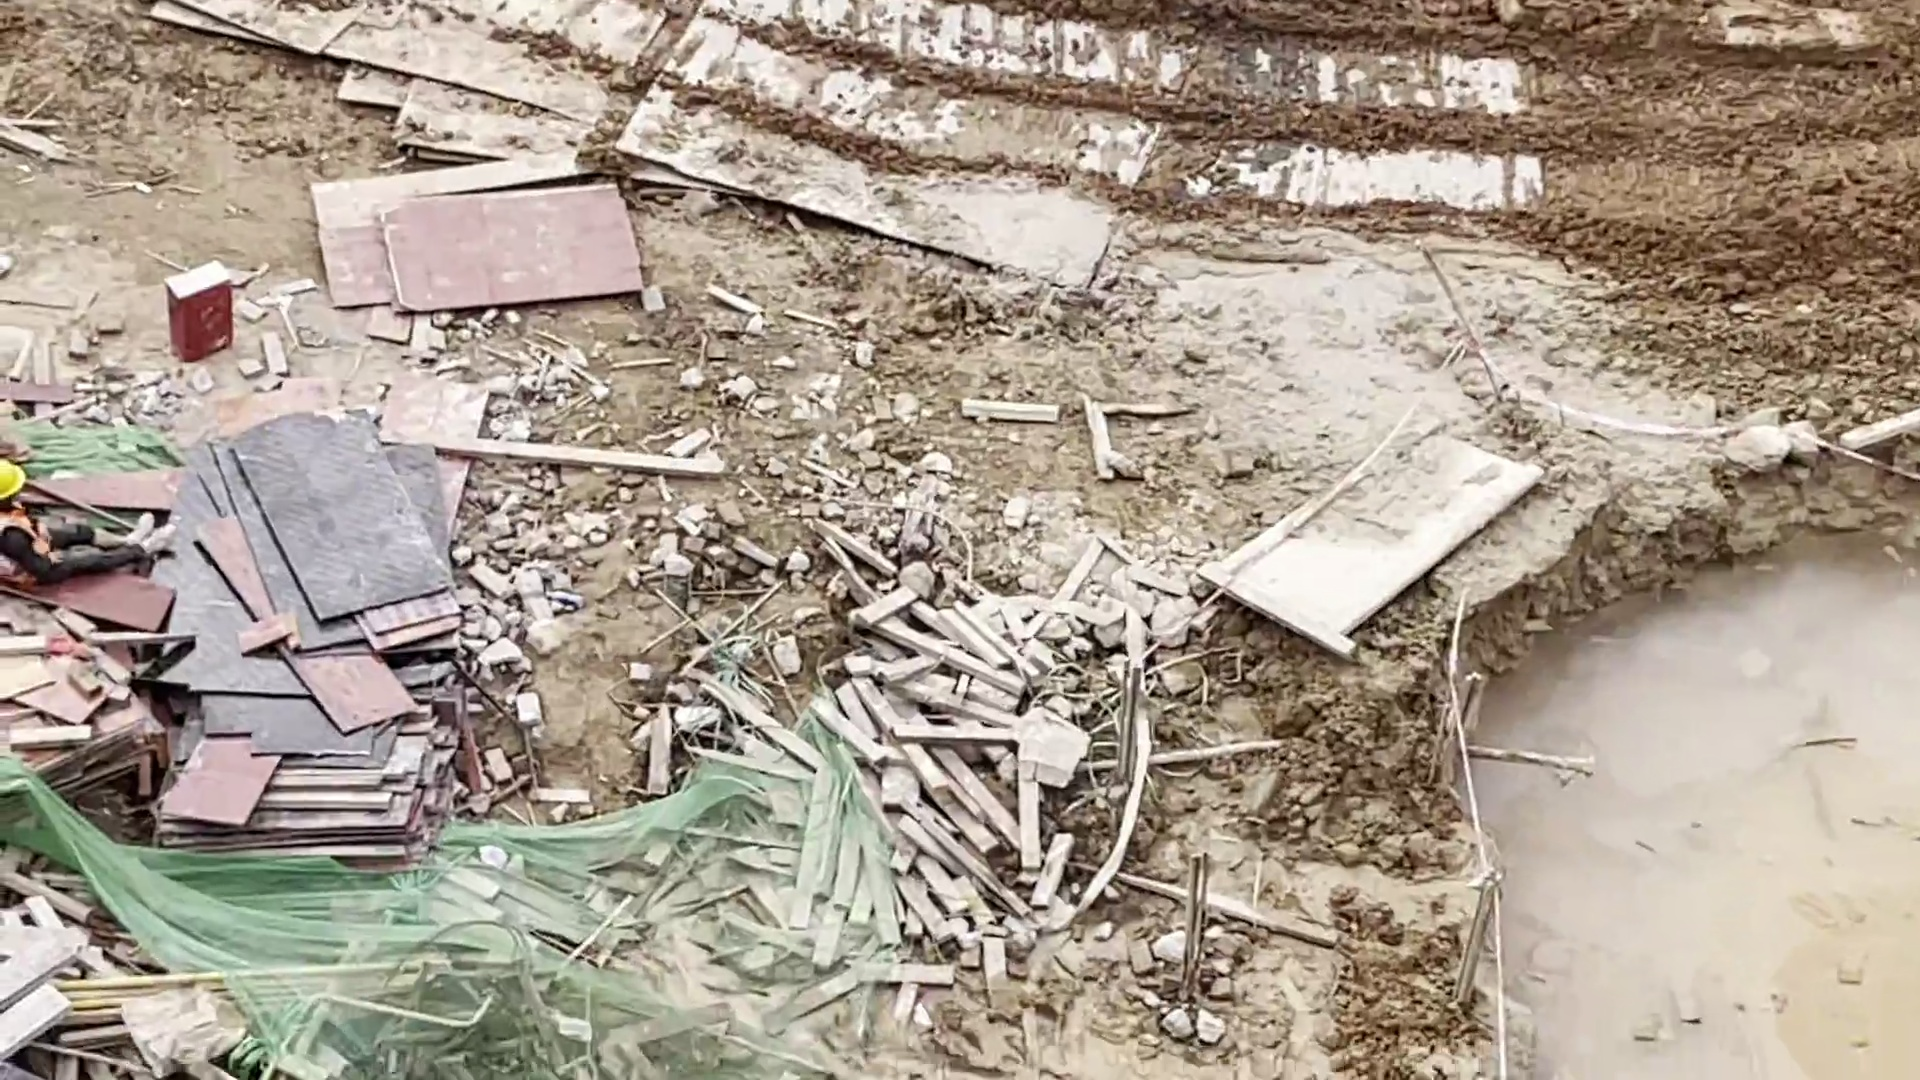board: (181, 418, 430, 878)
helmet: (1, 458, 27, 499)
person: (1, 462, 168, 583)
vest: (3, 506, 59, 578)
